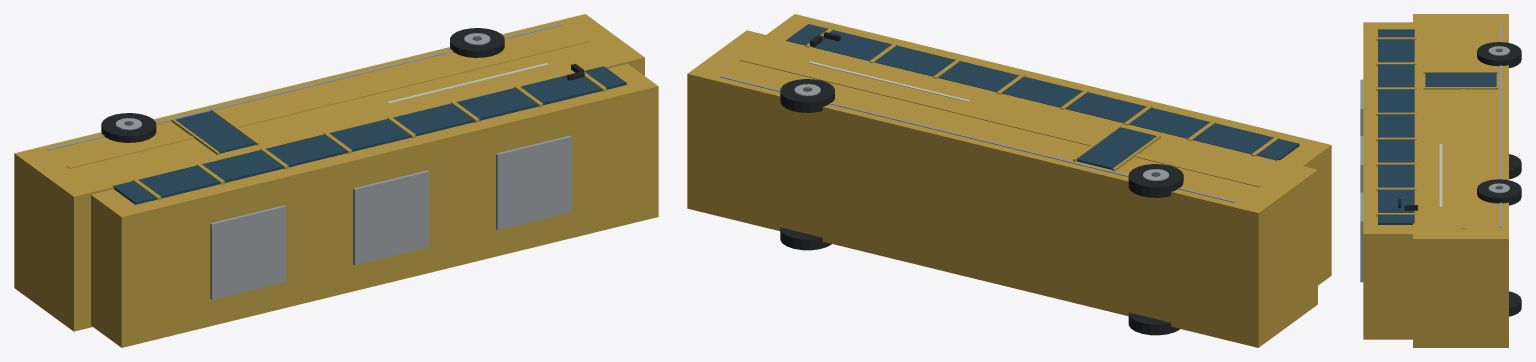
The model's file is RM_Bus_47.glb.
3 renders of one model, left to right at view 1: azimuth 30°, elevation 25°; view 2: azimuth 150°, elevation 25°; view 3: azimuth 270°, elevation 25°, orthographic. The views are drawn at different scales.
Visible parts, largest first — view 1: part_001, part_000, part_002, part_037, part_039, part_038, part_013, part_040, part_024, part_030, part_014; view 2: part_000, part_002, part_001, part_013, part_040, part_024, part_030, part_014, part_021, part_027; view 3: part_000, part_001, part_002, part_040, part_013, part_030, part_024, part_014, part_039, part_021, part_027, part_043 (+6 smaller).
Part boxes in pixels (x1,y1,x2,y2): part_001: [91, 64, 658, 347]; part_000: [14, 14, 644, 331]; part_002: [113, 66, 626, 204]; part_037: [210, 205, 286, 299]; part_039: [496, 135, 571, 230]; part_038: [353, 170, 428, 264]; part_013: [66, 39, 589, 168]; part_040: [175, 111, 255, 153]; part_024: [101, 113, 156, 142]; part_030: [450, 28, 504, 57]; part_014: [47, 23, 562, 150]; part_000: [687, 30, 1317, 347]; part_002: [786, 24, 1299, 160]; part_001: [766, 14, 1331, 285]; part_013: [739, 58, 1262, 187]; part_040: [1076, 127, 1156, 169]; part_024: [1128, 164, 1183, 197]; part_030: [780, 79, 834, 112]; part_014: [720, 76, 1235, 202]; part_021: [1128, 312, 1179, 335]; part_027: [780, 227, 831, 250]; part_000: [1413, 14, 1508, 347]; part_001: [1363, 22, 1412, 339]; part_002: [1378, 29, 1414, 224]; part_040: [1425, 72, 1496, 86]; part_013: [1461, 23, 1465, 228]; part_030: [1477, 179, 1521, 205]; part_024: [1477, 42, 1521, 68]; part_014: [1499, 24, 1501, 227]; part_039: [1360, 192, 1363, 282]; part_021: [1509, 154, 1521, 179]; part_027: [1509, 291, 1521, 316]; part_043: [1439, 144, 1442, 207].
Size of the model in its own units: 11.22 by 2.85 by 3.4.
